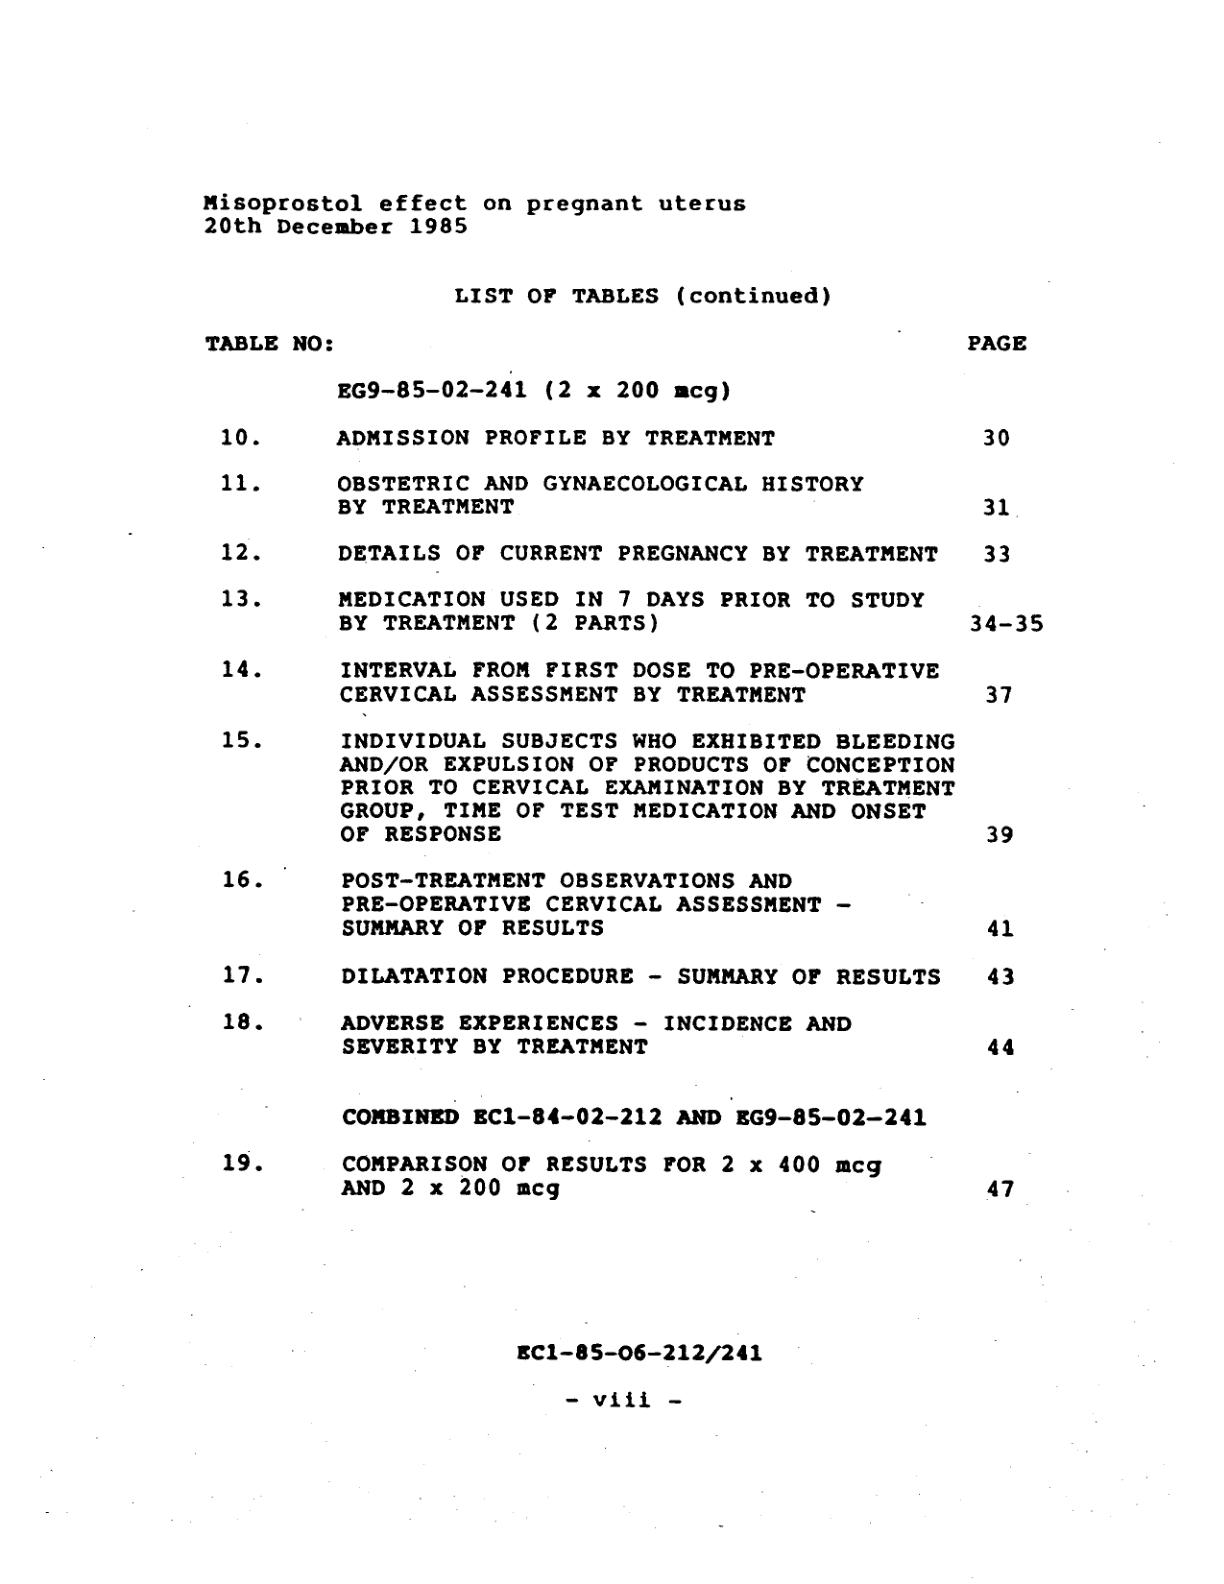nolines: (202, 332, 1047, 1200)
